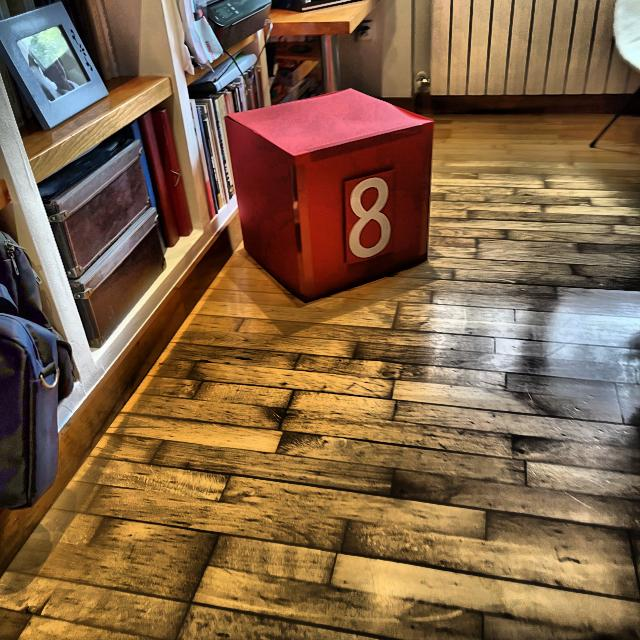eight: (349, 177, 391, 260)
red box: (230, 86, 431, 301)
